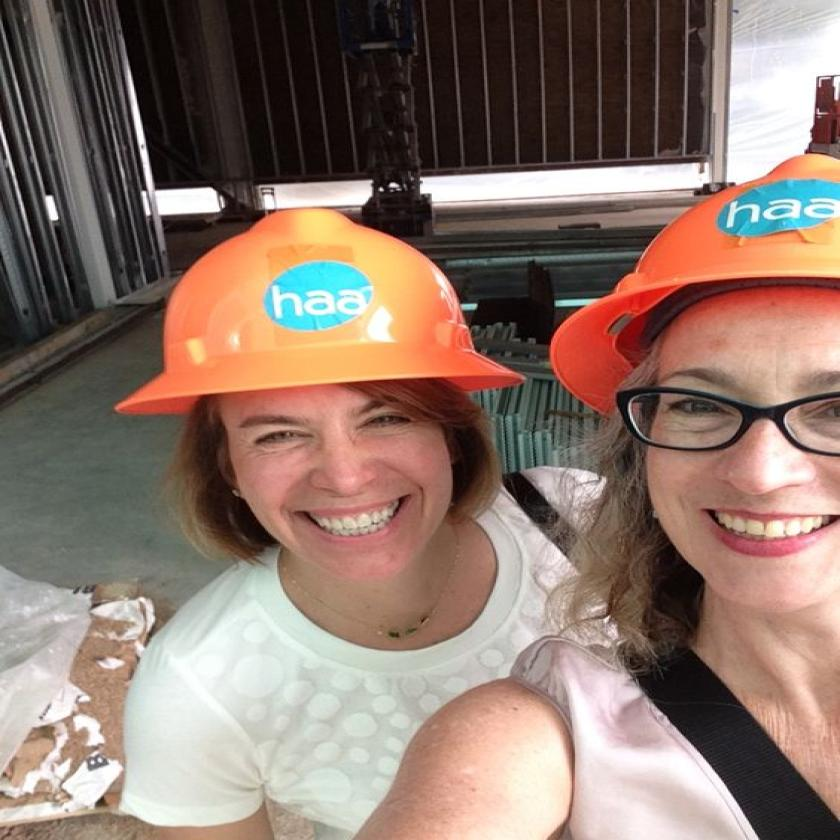Con_casco: (85, 190, 536, 592), (536, 142, 840, 648)
